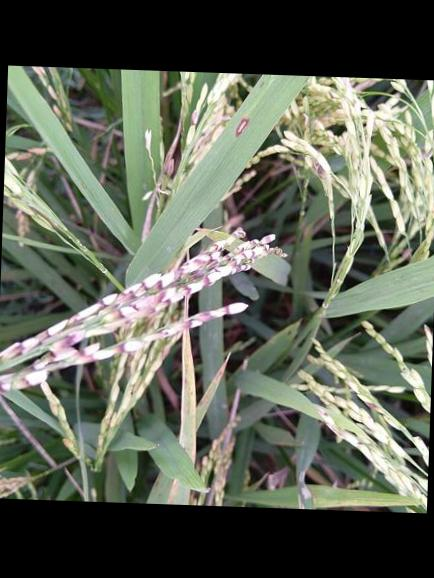Panicle Blight: (0, 225, 265, 393)
